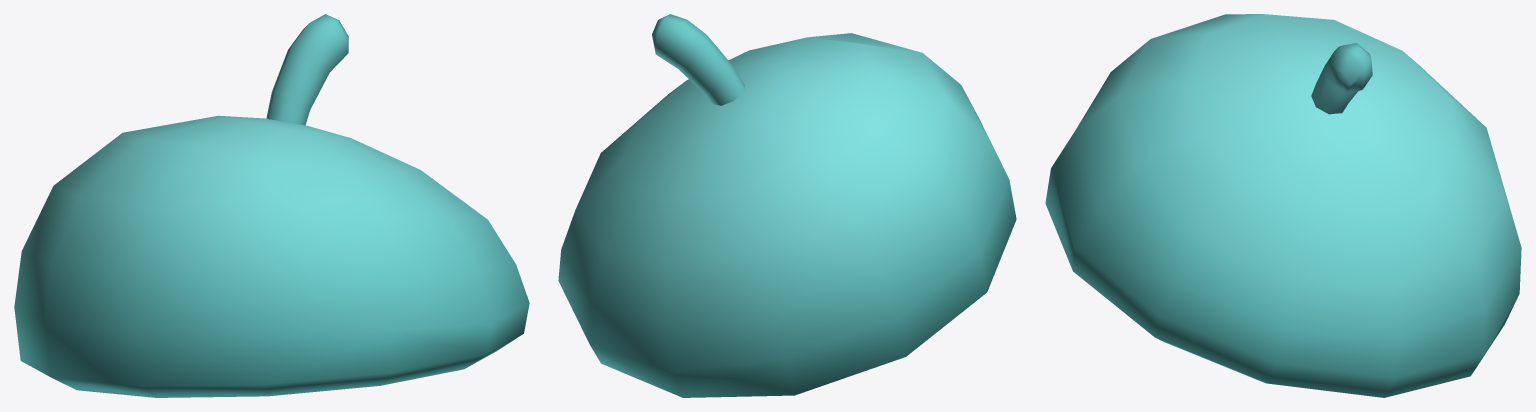
Rendered from Headgear_8.fbx.
3 views of the same model, side by side, from view 1: azimuth 30°, elevation 25°; view 2: azimuth 150°, elevation 25°; view 3: azimuth 270°, elevation 25° (orthographic). The views are drawn at different scales.
Visible parts, largest first — view 1: Headgear_8; view 2: Headgear_8; view 3: Headgear_8.
Part boxes in pixels (x1,y1,x2,y2): Headgear_8: (14, 14, 529, 397); Headgear_8: (558, 14, 1016, 397); Headgear_8: (1045, 14, 1521, 397).
Bounding box in the file's own units: 68.95 × 51.77 × 67.68.
